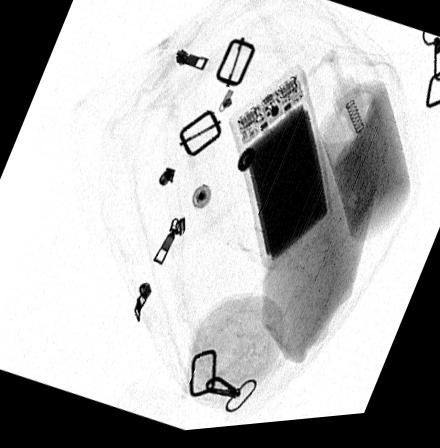Powerbank: (231, 70, 331, 275)
